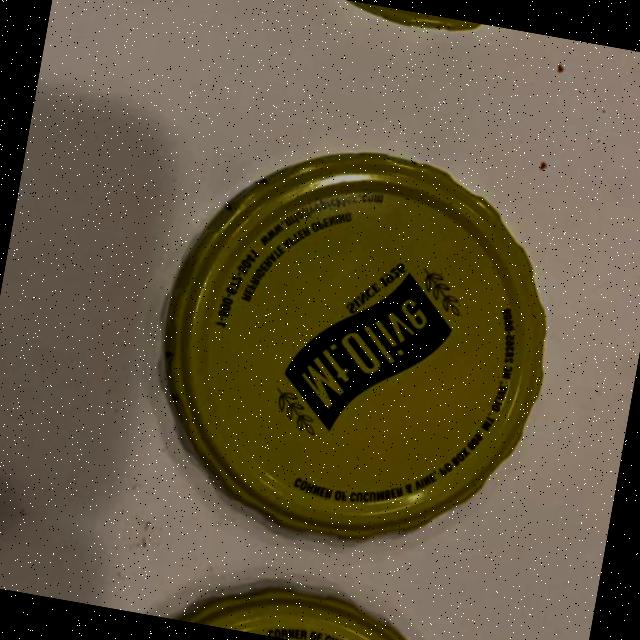Metal: (127, 119, 582, 568), (107, 558, 504, 640), (217, 0, 607, 59)
